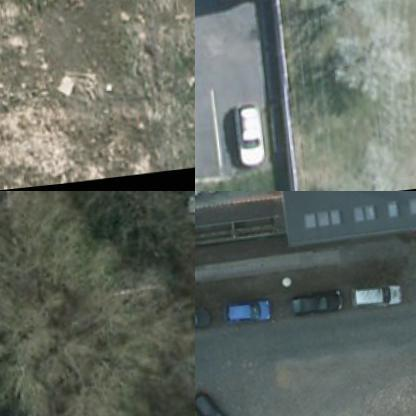car: (227, 107, 260, 171), (212, 301, 268, 330), (287, 294, 339, 325), (349, 290, 400, 321), (195, 394, 230, 415), (176, 191, 194, 228)
